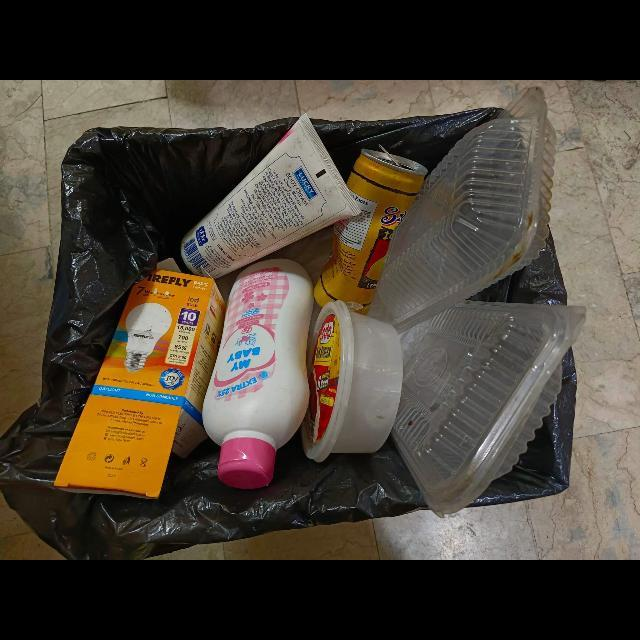metal: (313, 144, 428, 316)
paper: (54, 258, 226, 500)
plastic: (377, 87, 557, 334), (391, 302, 586, 518), (172, 114, 362, 280), (202, 258, 314, 491), (300, 301, 404, 464)
